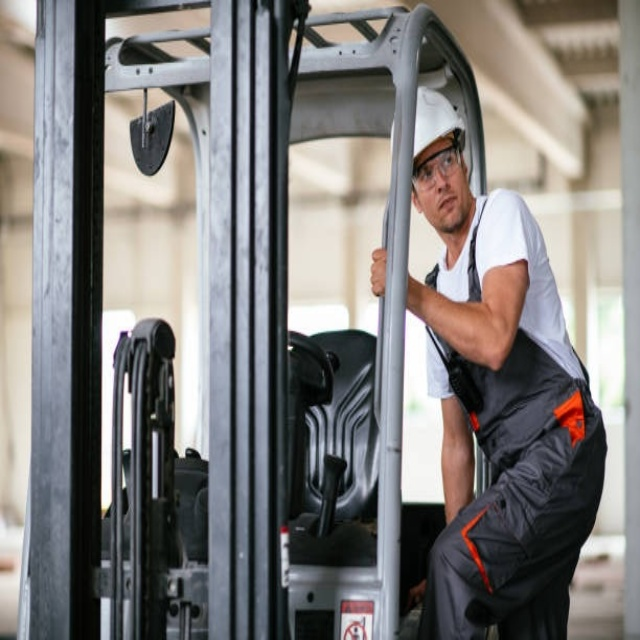Gafas: (413, 146, 462, 194)
Sin_guantes: (370, 247, 390, 298)
Sin_mascara: (432, 191, 461, 223)
